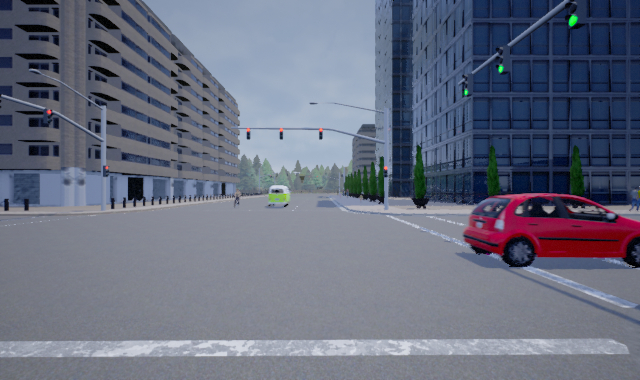bike: (232, 187, 242, 213)
pedestrian: (626, 185, 639, 211)
traffic_light: (565, 1, 589, 29), (494, 42, 511, 75), (460, 69, 475, 96), (41, 105, 54, 126), (102, 163, 110, 178), (245, 126, 252, 139), (318, 126, 324, 141), (383, 165, 389, 179), (278, 126, 284, 139)
vehicle: (462, 192, 639, 267), (265, 185, 291, 207)
